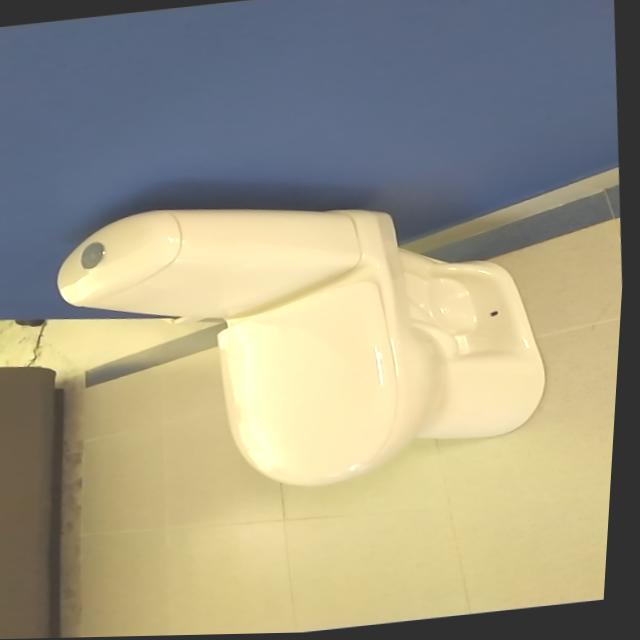toilet: (44, 168, 568, 515)
